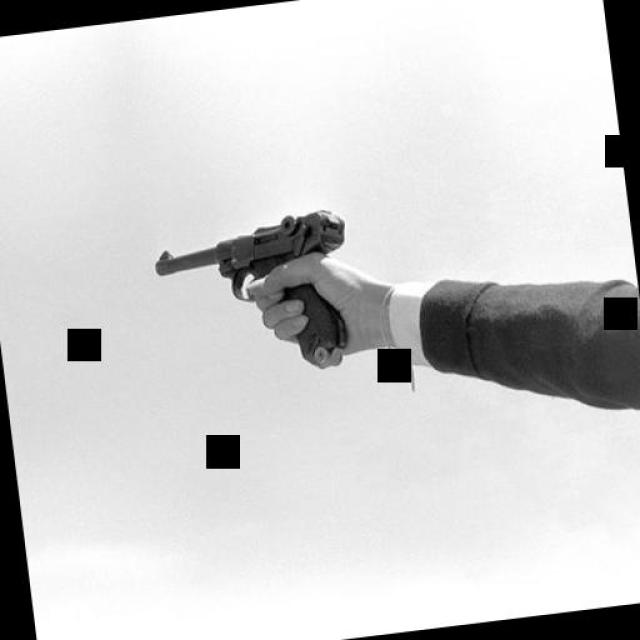gun: (148, 204, 356, 386)
